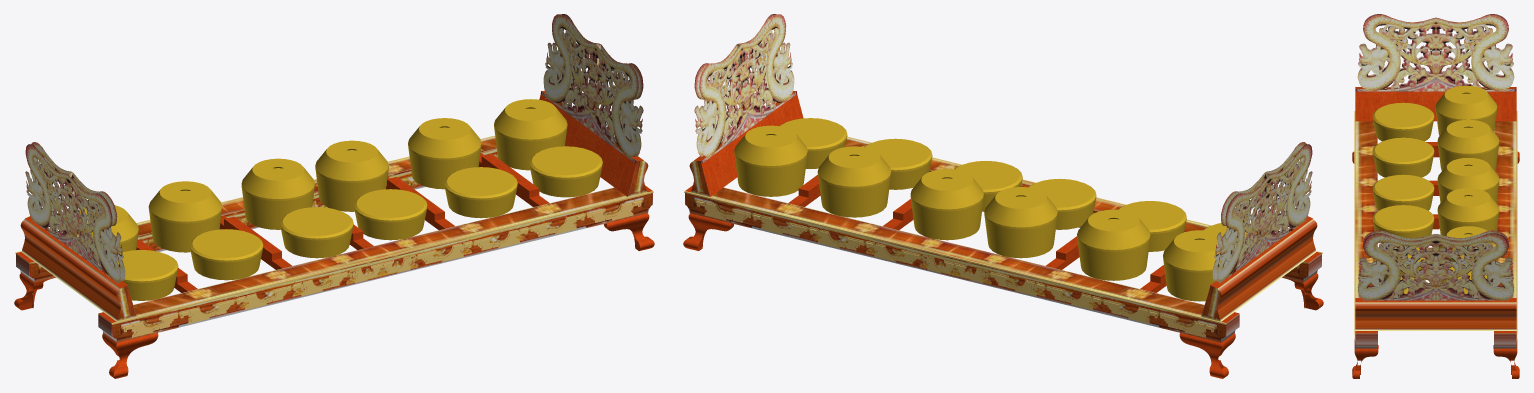
The model's file is bonang.glb.
3 views of the same model, side by side, from view 1: azimuth 30°, elevation 25°; view 2: azimuth 150°, elevation 25°; view 3: azimuth 270°, elevation 25° (orthographic). The views are drawn at different scales.
Parts seen in each view (by area): view 1: Object_7, Object_8, Object_20, Object_106, Object_9, Object_26, Object_115, Object_117, Object_116, Object_114, Object_28, Object_29 (+2 smaller); view 2: Object_7, Object_8, Object_20, Object_26, Object_106, Object_117, Object_9, Object_115, Object_114, Object_116, Object_29, Object_27 (+2 smaller); view 3: Object_8, Object_9, Object_20, Object_26, Object_116, Object_114, Object_115, Object_117, Object_7, Object_106, Object_29.
Part boxes in pixels (x1=…): Object_7: x1=241, y1=99, x2=567, y2=229; Object_8: x1=79, y1=146, x2=602, y2=253; Object_20: x1=16, y1=98, x2=652, y2=342; Object_106: x1=14, y1=91, x2=654, y2=378; Object_9: x1=116, y1=207, x2=353, y2=300; Object_26: x1=133, y1=136, x2=627, y2=316; Object_115: x1=588, y1=44, x2=643, y2=163; Object_117: x1=540, y1=14, x2=600, y2=128; Object_116: x1=68, y1=172, x2=125, y2=282; Object_114: x1=25, y1=142, x2=78, y2=251; Object_28: x1=179, y1=227, x2=528, y2=323; Object_29: x1=15, y1=54, x2=653, y2=324; Object_7: x1=734, y1=125, x2=1057, y2=258; Object_8: x1=779, y1=118, x2=1222, y2=301; Object_20: x1=685, y1=98, x2=1321, y2=342; Object_26: x1=710, y1=137, x2=1209, y2=316; Object_106: x1=683, y1=91, x2=1323, y2=378; Object_117: x1=694, y1=44, x2=749, y2=163; Object_9: x1=1028, y1=178, x2=1256, y2=251; Object_115: x1=737, y1=14, x2=797, y2=128; Object_114: x1=1212, y1=172, x2=1269, y2=282; Object_116: x1=1259, y1=142, x2=1312, y2=251; Object_29: x1=684, y1=54, x2=1322, y2=324; Object_27: x1=809, y1=227, x2=1101, y2=309; Object_8: x1=1372, y1=85, x2=1499, y2=297; Object_9: x1=1372, y1=102, x2=1434, y2=210; Object_20: x1=1355, y1=88, x2=1516, y2=348; Object_26: x1=1355, y1=121, x2=1516, y2=297; Object_116: x1=1355, y1=14, x2=1435, y2=91; Object_114: x1=1436, y1=14, x2=1516, y2=91; Object_115: x1=1357, y1=230, x2=1435, y2=300; Object_117: x1=1436, y1=230, x2=1514, y2=300; Object_7: x1=1437, y1=158, x2=1499, y2=297; Object_106: x1=1352, y1=87, x2=1519, y2=378; Object_29: x1=1354, y1=38, x2=1517, y2=334.
Bounding box in the file's own units: 1.79 × 0.5505 × 0.5691.
Materials: 7 (4 with a texture image).
